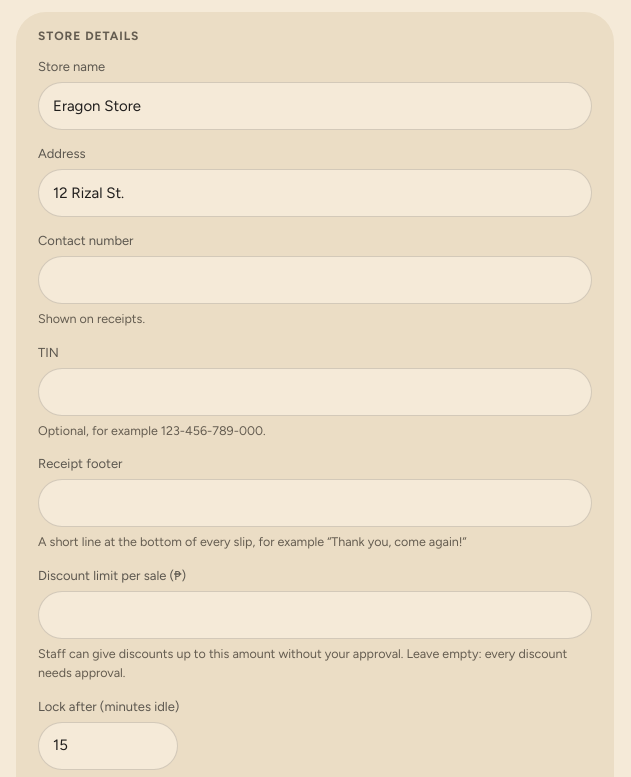
Test: Settings > Store (SYS-01) › explains a refusal from the server
The width and height of the screenshot is (631, 777).
In the field labelled "Contact number": (315, 280) [38, 256, 592, 304], type "0917"
(page scrolled)
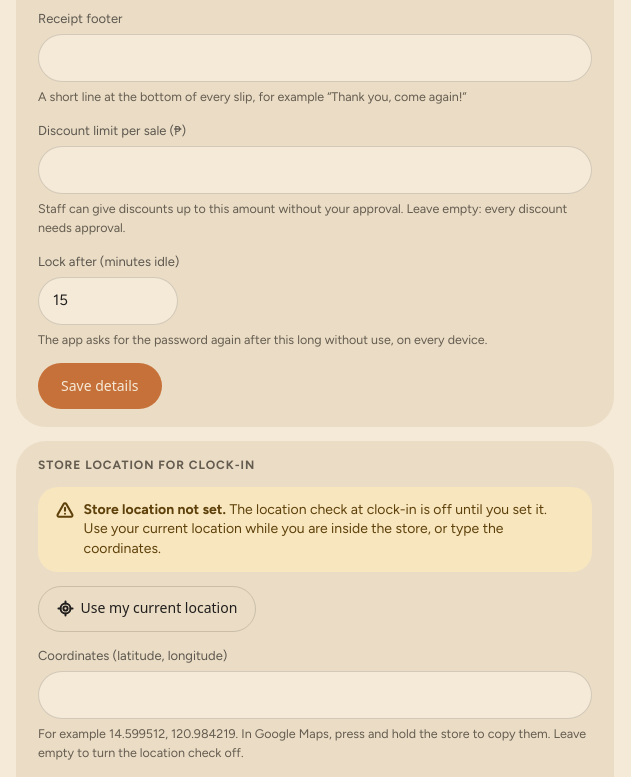
Click the button "Save details": (100, 386) [38, 363, 162, 409]
(page scrolled)
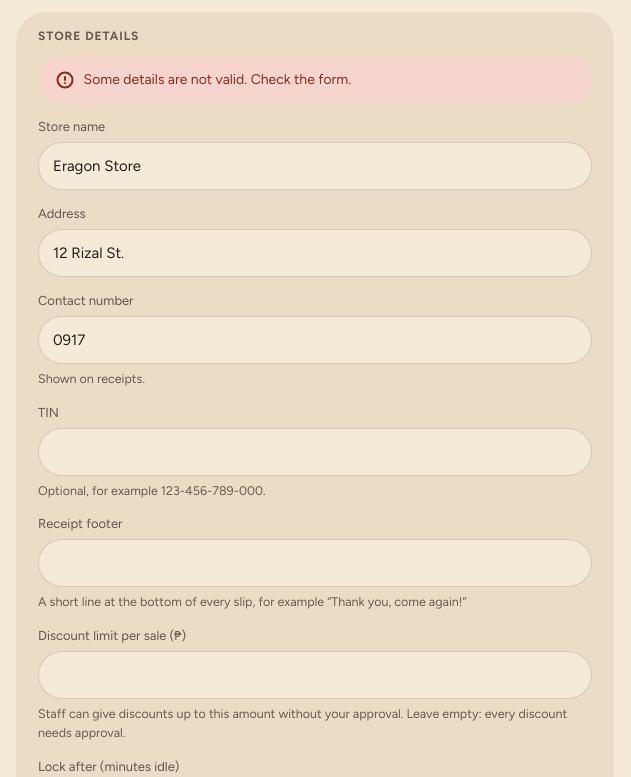
Result: the text "Some details are not valid. Check the form." is shown at [84, 70, 351, 90]
